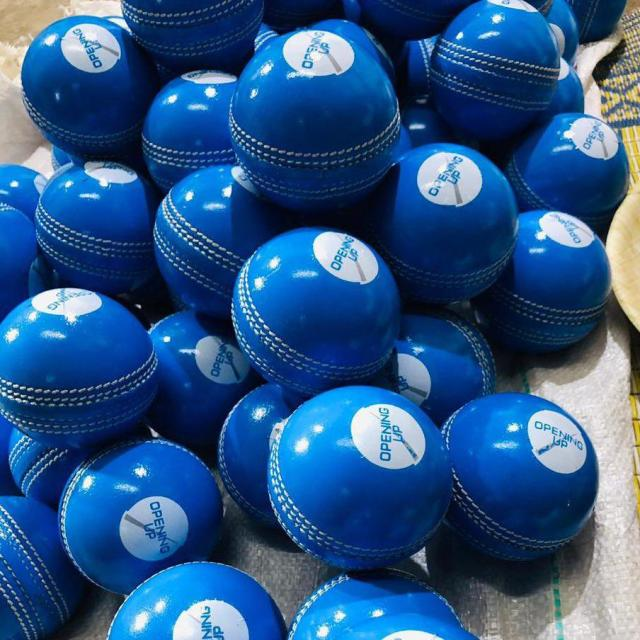ball: (232, 25, 406, 208)
